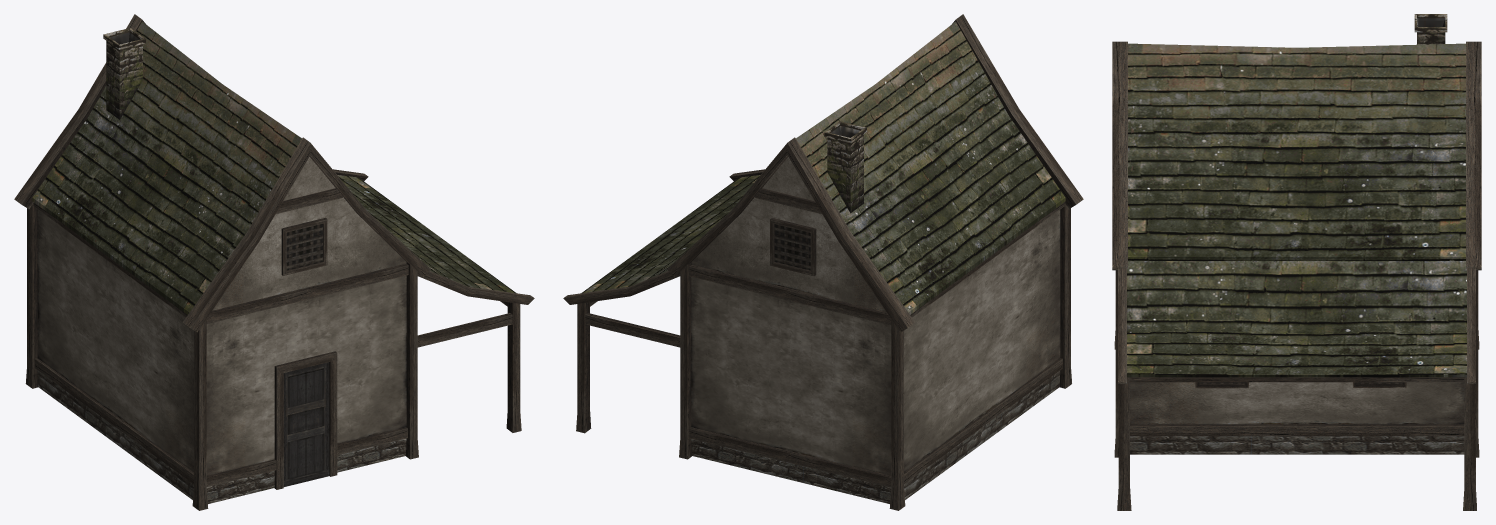
File: SC_yonghengsenlin_30.FBX
The picture shows the model from 3 angles, left to right: view 1: azimuth 30°, elevation 25°; view 2: azimuth 150°, elevation 25°; view 3: azimuth 270°, elevation 25°; orthographic projection. The views are drawn at different scales.
Parts seen in each view (by area): view 1: SC_yonghengsenlin_30; view 2: SC_yonghengsenlin_30; view 3: SC_yonghengsenlin_30.
Boxes of the visible parts, x1,y1,x2,y2 form: SC_yonghengsenlin_30: [14, 14, 534, 510]; SC_yonghengsenlin_30: [563, 14, 1083, 510]; SC_yonghengsenlin_30: [1112, 14, 1481, 510].
Size of the model in its own units: 732 by 696 by 641.
